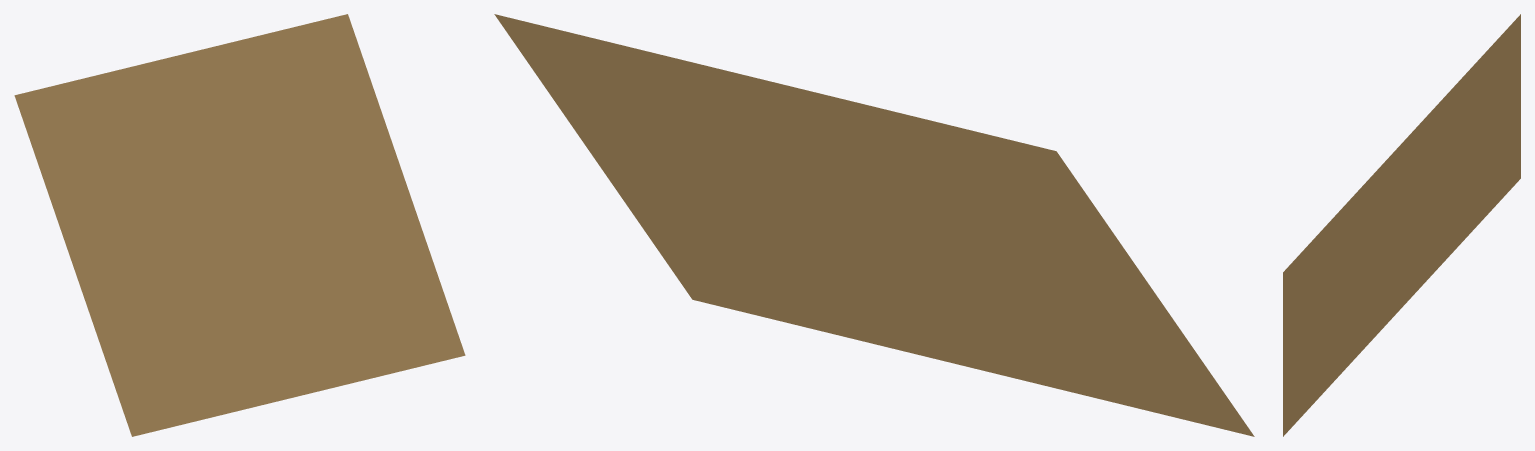
3 views of the same model, side by side, from view 1: azimuth 30°, elevation 25°; view 2: azimuth 150°, elevation 25°; view 3: azimuth 270°, elevation 25° (orthographic). The views are drawn at different scales.
Size of the model in its own units: 0.75 by 0.5491 by 0.458.
1 material, 1 textured.
